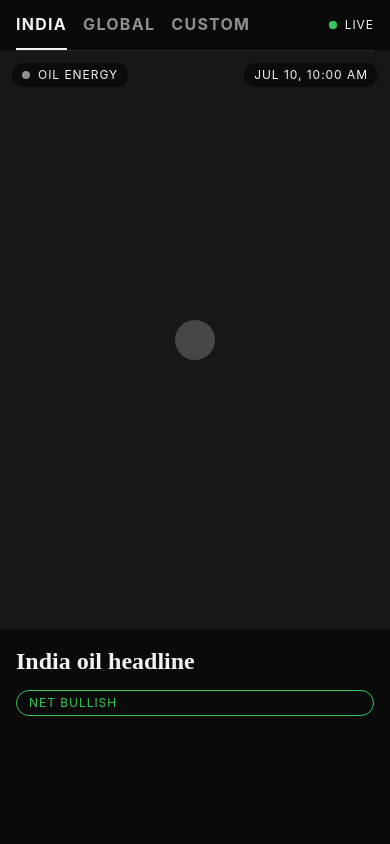
Test: Feed › mobile: expands the company breakdown inline in the card, with a close button
Click the button "oil energy Jul 10, 10:00 AM India oil headline Net Bullish".
click(195, 392)  # box [0,51,389,732]
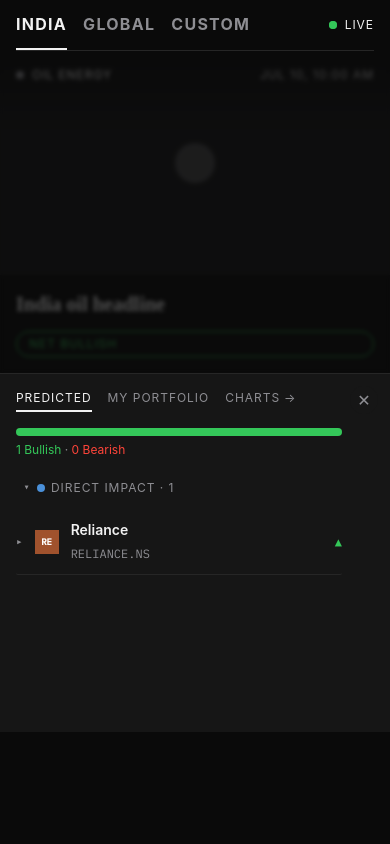
Check: the text "Reliance" is shown, box [71,520,128,538]
Check: the button named "close" is shown, box [350,386,378,414]
